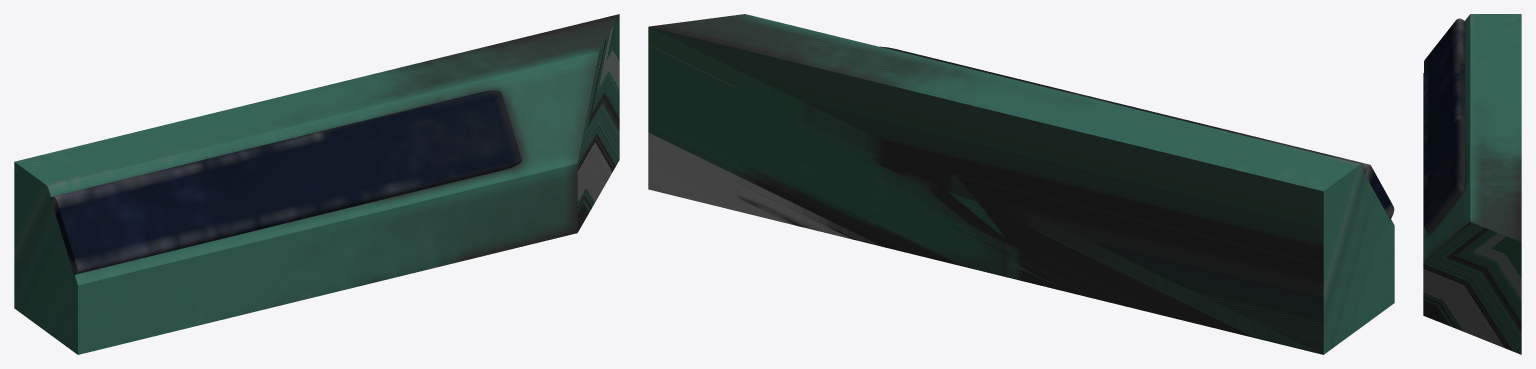
File: accessory_walllower.fbx
3 renders of one model, left to right at view 1: azimuth 30°, elevation 25°; view 2: azimuth 150°, elevation 25°; view 3: azimuth 270°, elevation 25°, orthographic. The views are drawn at different scales.
Visible parts, largest first — view 1: polySurface364; view 2: polySurface364; view 3: polySurface364.
Part boxes in pixels (x1,y1,x2,y2): polySurface364: [14, 14, 619, 354]; polySurface364: [648, 14, 1394, 354]; polySurface364: [1423, 14, 1521, 354].
Bounding box in the file's own units: 13.15 × 3.05 × 2.4.
1 material, 1 textured.
